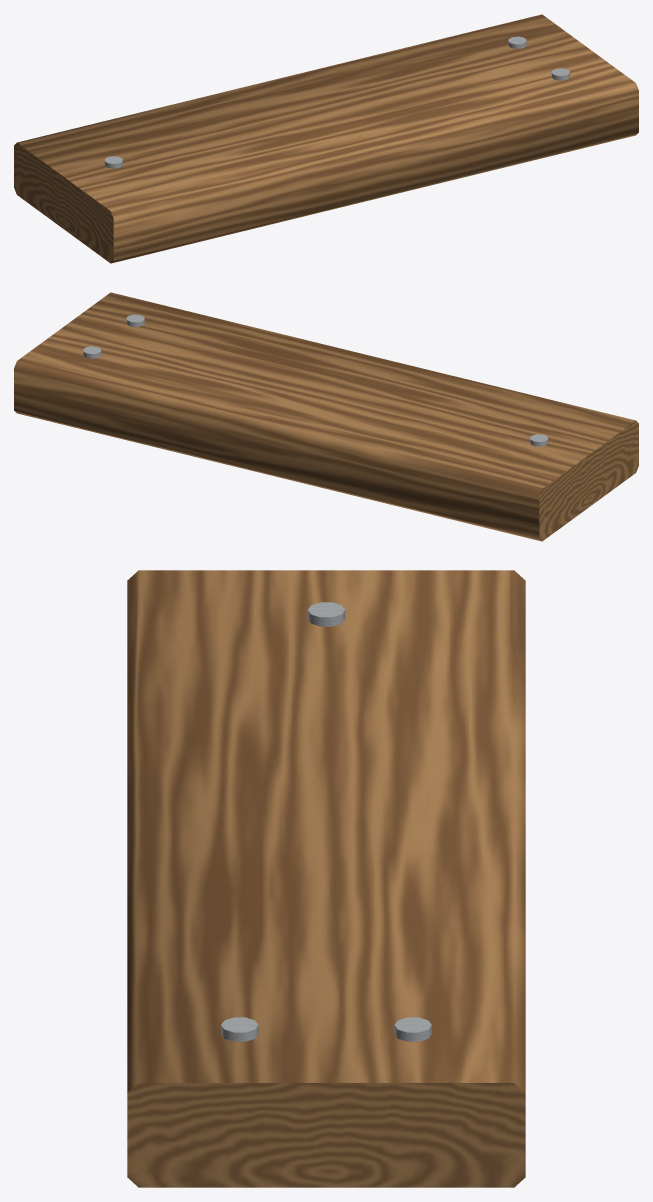
File: timber.obj
3 views of the same model, one above another, from view 1: azimuth 30°, elevation 25°; view 2: azimuth 150°, elevation 25°; view 3: azimuth 270°, elevation 25° (orthographic). The views are drawn at different scales.
Parts seen in each view (by area): view 1: timber_0_surface, timber_1_surface; view 2: timber_0_surface, timber_1_surface; view 3: timber_0_surface, timber_1_surface.
Part boxes in pixels (bbox=[...]): timber_0_surface: bbox=[14, 14, 638, 263]; timber_1_surface: bbox=[104, 36, 569, 168]; timber_0_surface: bbox=[14, 292, 638, 541]; timber_1_surface: bbox=[83, 314, 548, 446]; timber_0_surface: bbox=[127, 570, 525, 1187]; timber_1_surface: bbox=[221, 602, 431, 1041].
Size of the model in its own units: 0.42 by 0.0435 by 0.138.
Materials: 2 (2 with a texture image).
